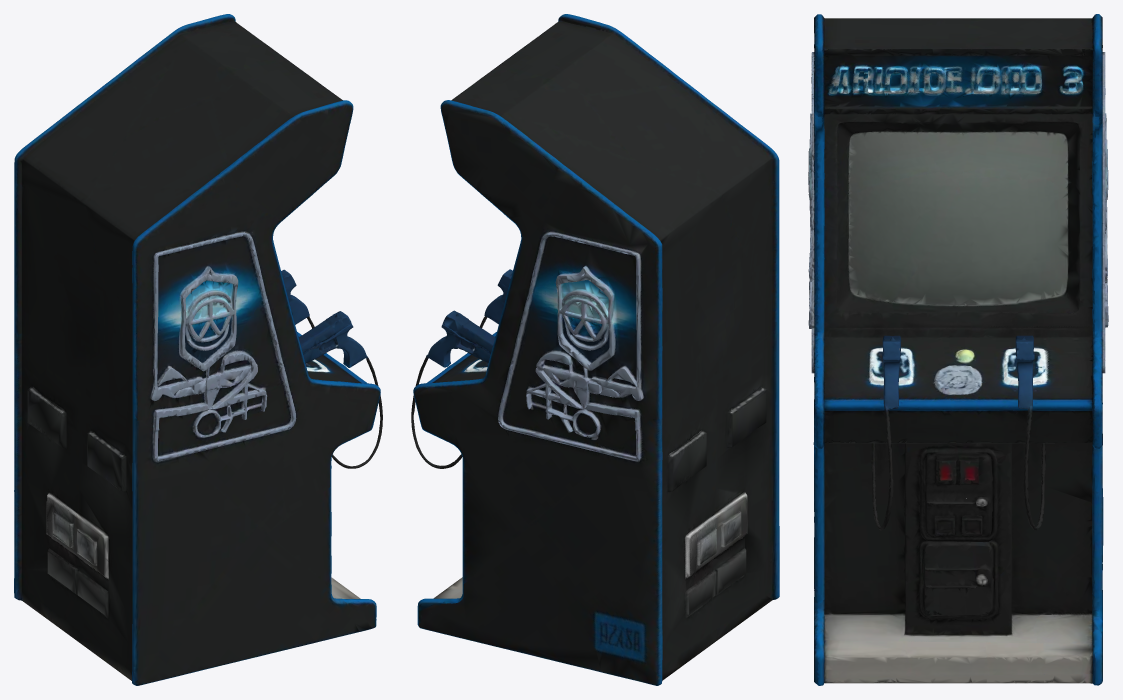
The model's file is arc-vcop3.glb.
3 renders of one model, left to right at view 1: azimuth 30°, elevation 25°; view 2: azimuth 150°, elevation 25°; view 3: azimuth 270°, elevation 25°, orthographic. The views are drawn at different scales.
Visible parts, largest first — view 1: tripo_node_4af5ca97-723e-400d-a1e5-536f71d29af3; view 2: tripo_node_4af5ca97-723e-400d-a1e5-536f71d29af3; view 3: tripo_node_4af5ca97-723e-400d-a1e5-536f71d29af3.
Part boxes in pixels (x1=…): tripo_node_4af5ca97-723e-400d-a1e5-536f71d29af3: x1=14, y1=14, x2=382, y2=685; tripo_node_4af5ca97-723e-400d-a1e5-536f71d29af3: x1=411, y1=14, x2=779, y2=685; tripo_node_4af5ca97-723e-400d-a1e5-536f71d29af3: x1=808, y1=14, x2=1108, y2=685.
Size of the model in its own units: 0.5506 by 1 by 0.4318.
Materials: 1 (1 with a texture image).
